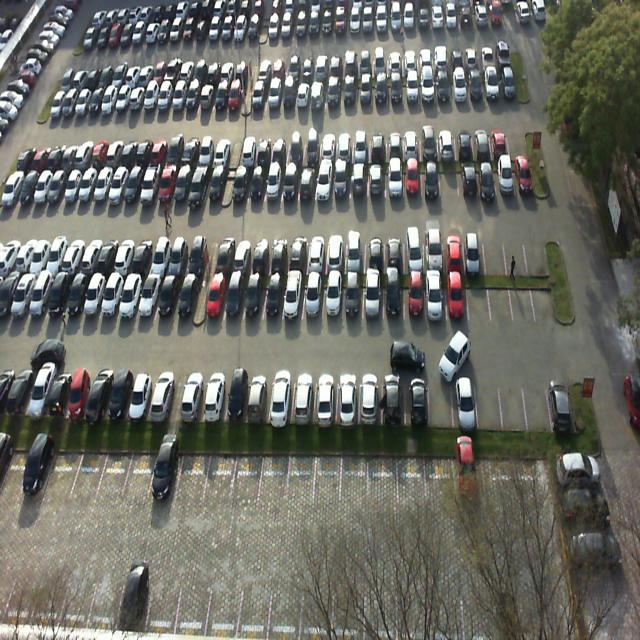space-empty: (94, 445, 132, 502), (123, 442, 157, 502), (43, 445, 79, 499), (71, 446, 106, 501), (231, 451, 264, 505), (175, 445, 209, 495), (204, 448, 238, 498), (312, 451, 342, 507), (259, 448, 291, 500), (499, 373, 527, 431), (476, 372, 502, 429), (523, 371, 549, 428), (288, 449, 314, 504), (428, 375, 454, 429), (530, 270, 557, 318), (486, 273, 511, 320), (483, 227, 507, 275), (505, 227, 527, 273), (525, 229, 549, 271), (467, 275, 488, 322), (509, 276, 531, 320), (440, 162, 458, 195)
space-occupied: (148, 444, 182, 500), (545, 370, 576, 426), (223, 370, 254, 424), (21, 446, 55, 494), (64, 367, 93, 421), (222, 272, 249, 326), (117, 271, 145, 323), (83, 371, 112, 421), (136, 267, 162, 321), (452, 374, 479, 426), (106, 371, 134, 421), (268, 373, 294, 425), (312, 372, 336, 428), (154, 274, 180, 324), (127, 370, 153, 420), (203, 370, 229, 420), (246, 372, 272, 422), (262, 270, 286, 324), (148, 374, 175, 422), (359, 371, 382, 426), (174, 272, 198, 324), (405, 374, 429, 426), (101, 270, 125, 320), (241, 275, 265, 325), (335, 373, 359, 423), (290, 372, 313, 424), (382, 371, 405, 423), (181, 373, 206, 419), (443, 226, 466, 273), (205, 273, 225, 327), (130, 236, 156, 276), (113, 238, 140, 276), (303, 276, 324, 324), (167, 238, 193, 276), (148, 237, 172, 278), (188, 164, 211, 206), (322, 277, 343, 323), (444, 277, 467, 319), (282, 276, 302, 324), (425, 229, 445, 276), (188, 239, 212, 278), (155, 165, 177, 207), (172, 165, 194, 207), (139, 165, 162, 205), (511, 156, 534, 196), (404, 226, 424, 272), (363, 276, 383, 322), (404, 274, 424, 320), (426, 276, 446, 322), (382, 231, 404, 272), (204, 166, 226, 206), (287, 234, 309, 274), (464, 228, 484, 272), (231, 164, 252, 205), (229, 238, 251, 277), (251, 235, 273, 273), (345, 231, 364, 275), (384, 276, 402, 322), (213, 239, 235, 275), (268, 236, 290, 272), (345, 275, 362, 321), (307, 234, 327, 273), (324, 235, 344, 273), (364, 235, 383, 273), (458, 162, 478, 198), (478, 158, 496, 198), (299, 166, 317, 205), (283, 164, 300, 205), (250, 166, 268, 204), (368, 162, 386, 200), (494, 160, 514, 194), (267, 166, 283, 207), (333, 165, 350, 201), (403, 163, 421, 197), (422, 163, 440, 197), (388, 162, 404, 200), (316, 166, 332, 200), (351, 164, 367, 198)
